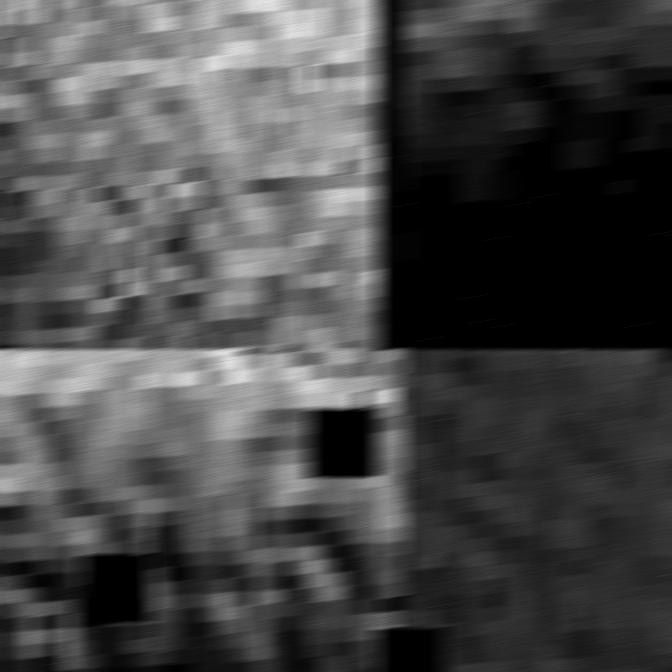Airbag: (0, 0, 406, 348), (0, 349, 406, 671), (399, 0, 672, 348), (399, 349, 672, 671)
